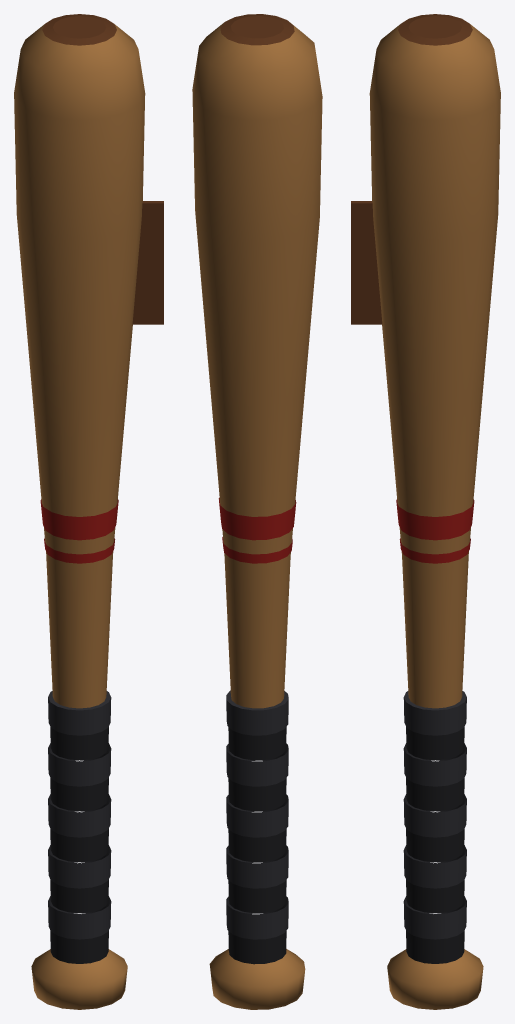
Rendered from Bat.fbx.
3 views of the same model, side by side, from view 1: azimuth 90°, elevation 25°; view 2: azimuth 150°, elevation 25°; view 3: azimuth 270°, elevation 25° (orthographic).
Visible parts, largest first — view 1: Bat; view 2: Bat; view 3: Bat.
Part boxes in pixels (x1,y1,x2,y2): Bat: [14, 14, 163, 1009]; Bat: [192, 14, 322, 1009]; Bat: [351, 14, 500, 1009].
Size of the model in its own units: 41.75 by 340 by 47.72.
